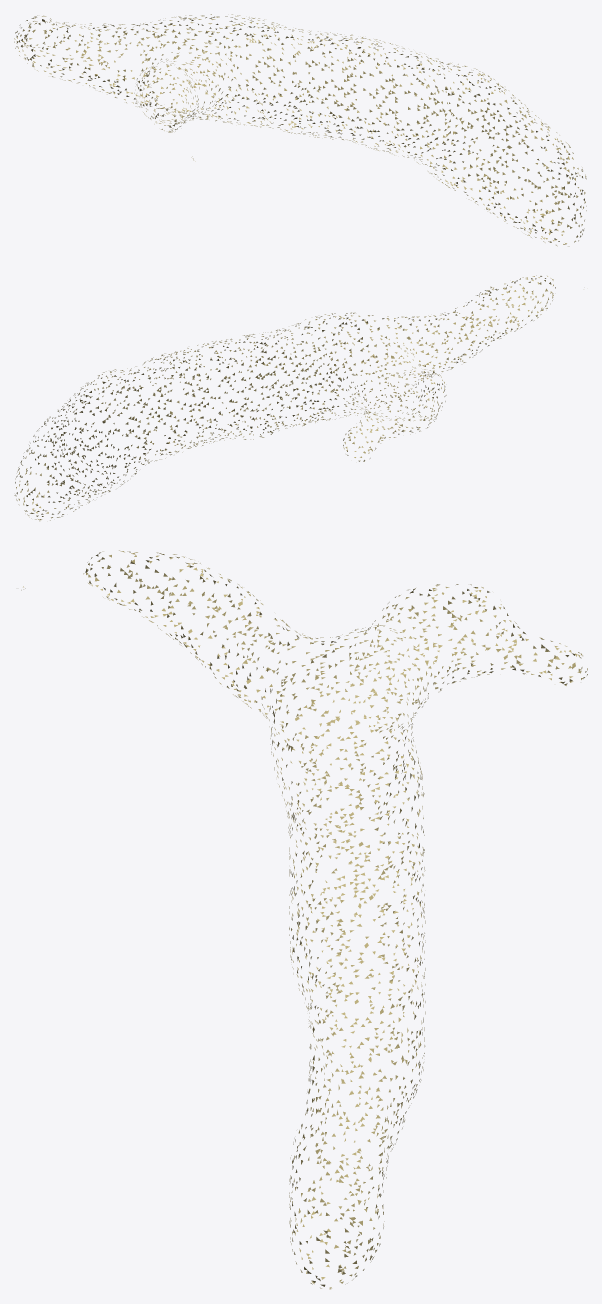
The model's file is morph_008.glb.
3 renders of one model, top to bottom at view 1: azimuth 30°, elevation 25°; view 2: azimuth 150°, elevation 25°; view 3: azimuth 270°, elevation 25°, orthographic. The views are drawn at different scales.
Size of the model in its own units: 119 by 73.75 by 88.06.
